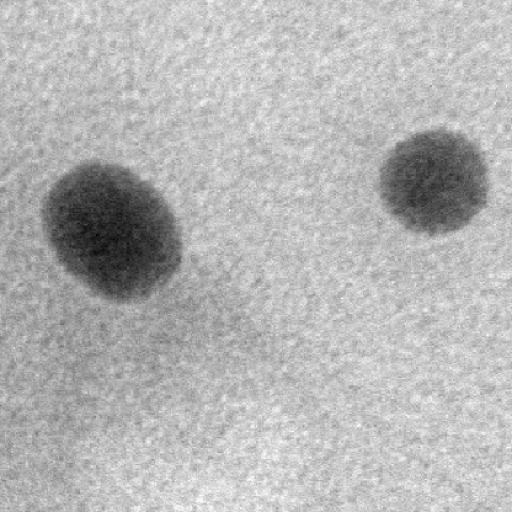Nanoparticles: (40, 154, 184, 308), (376, 119, 492, 239)
